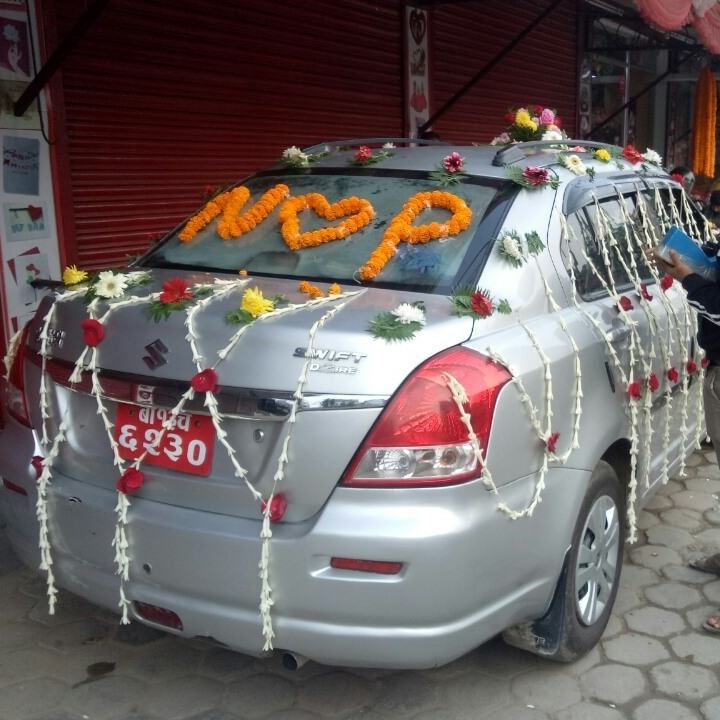number plate: (112, 398, 216, 480)
